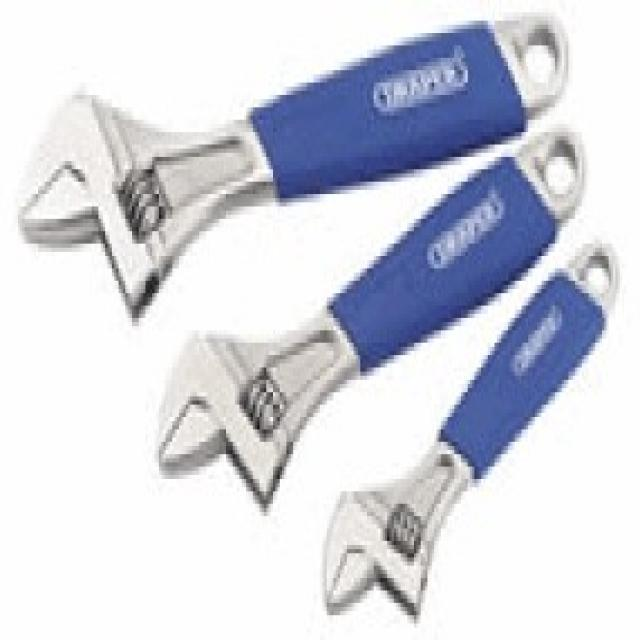wrench: (19, 26, 536, 289), (312, 398, 613, 629), (140, 318, 393, 493)
